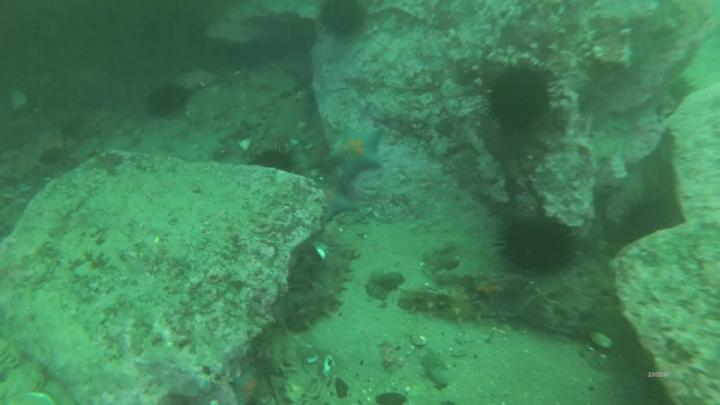echinus: (501, 219, 577, 274), (493, 69, 549, 133), (622, 202, 674, 237), (321, 3, 366, 35), (148, 86, 187, 115), (253, 150, 297, 173), (291, 22, 316, 49), (602, 222, 621, 243)
holothurian: (291, 246, 359, 333), (400, 289, 501, 323)
scallop: (314, 241, 331, 259), (239, 138, 253, 155), (412, 335, 430, 346)
starfish: (328, 128, 386, 177), (232, 368, 259, 405), (324, 189, 353, 222)
